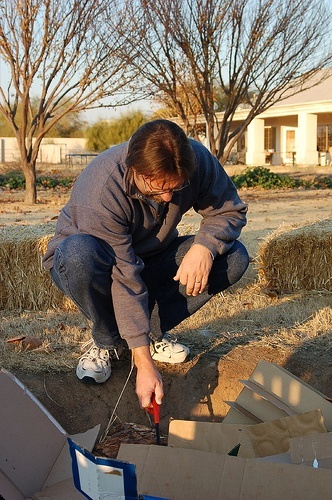head: (127, 117, 197, 205)
person: (40, 127, 254, 404)
